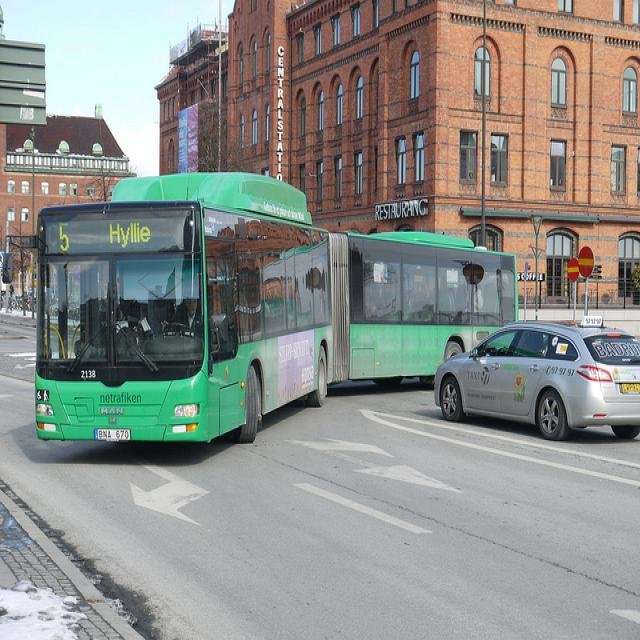AB: (24, 162, 530, 478)
